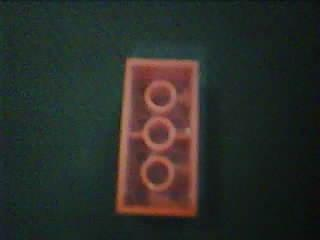lego: (114, 56, 200, 217)
